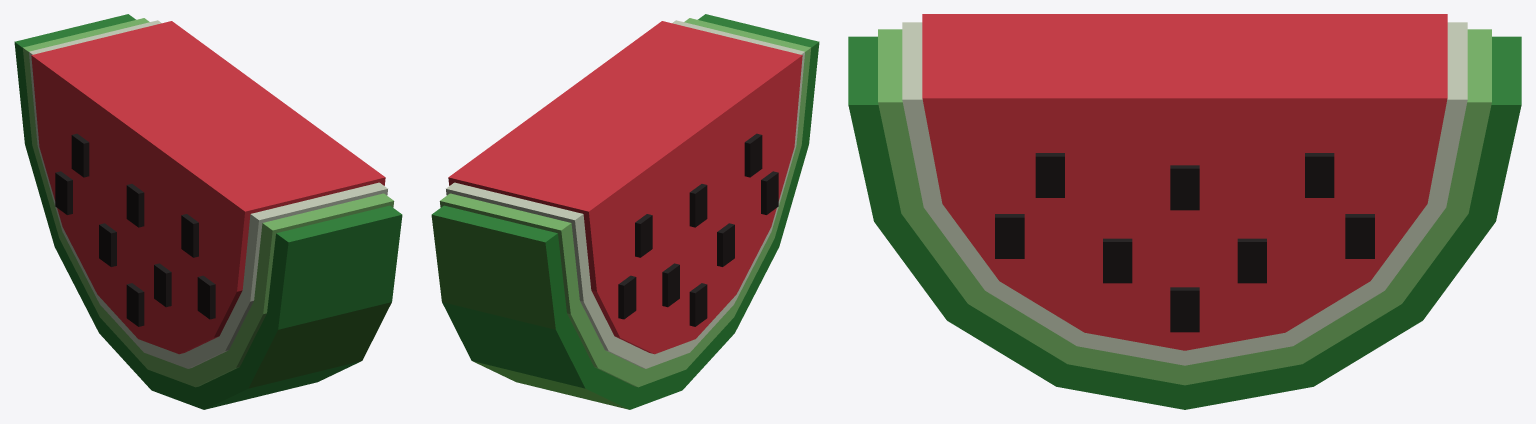
The model's file is watermelon.glb.
3 renders of one model, left to right at view 1: azimuth 30°, elevation 25°; view 2: azimuth 150°, elevation 25°; view 3: azimuth 270°, elevation 25°, orthographic. The views are drawn at different scales.
Parts seen in each view (by area): view 1: watermelon; view 2: watermelon; view 3: watermelon.
Part boxes in pixels (box(x1,y1,x2,y2)): watermelon: box(14, 14, 402, 409); watermelon: box(431, 14, 819, 409); watermelon: box(848, 14, 1521, 409).
Size of the model in its own units: 0.16 by 0.262 by 0.5.
